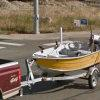Boat: (27, 37, 100, 89)
